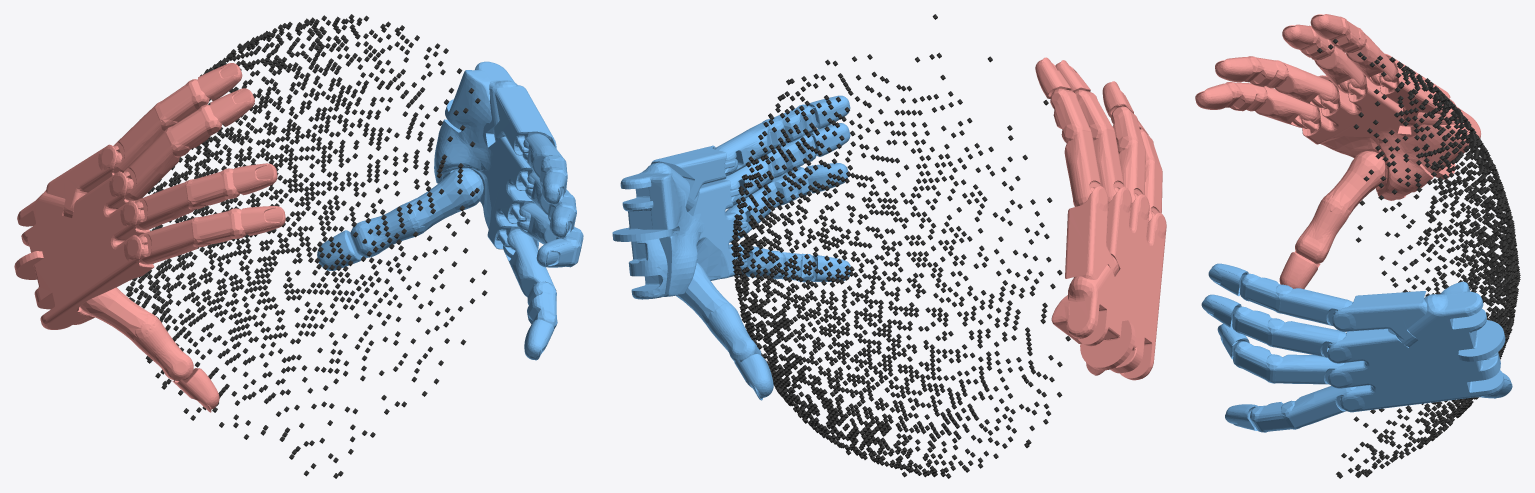
The model's file is mujoco_Ortho_Forward_Facing_CkAW6rL25xH_scale024_inference.glb.
3 views of the same model, side by side, from view 1: azimuth 30°, elevation 25°; view 2: azimuth 150°, elevation 25°; view 3: azimuth 270°, elevation 25° (orthographic). The views are drawn at different scales.
Visible parts, largest first — view 1: left_shadow_hand, object_pointcloud, right_shadow_hand; view 2: object_pointcloud, right_shadow_hand, left_shadow_hand; view 3: right_shadow_hand, left_shadow_hand, object_pointcloud.
Part boxes in pixels (x1,y1,x2,y2): left_shadow_hand: [14, 63, 285, 412]; object_pointcloud: [125, 14, 487, 478]; right_shadow_hand: [317, 61, 583, 360]; object_pointcloud: [731, 14, 1070, 478]; right_shadow_hand: [612, 95, 850, 400]; left_shadow_hand: [1035, 57, 1166, 380]; right_shadow_hand: [1201, 263, 1512, 432]; left_shadow_hand: [1195, 14, 1480, 288]; object_pointcloud: [1317, 38, 1520, 478].
Size of the model in its own units: 0.369 by 0.3253 by 0.2237.
